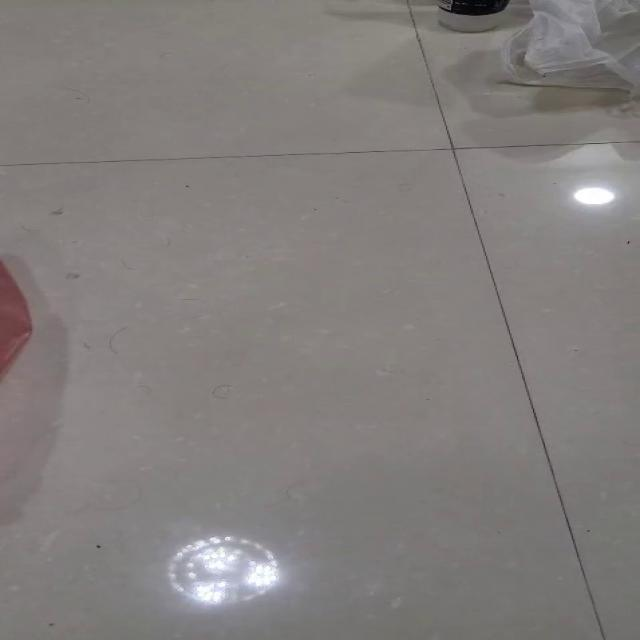plastic: (498, 0, 639, 99)
